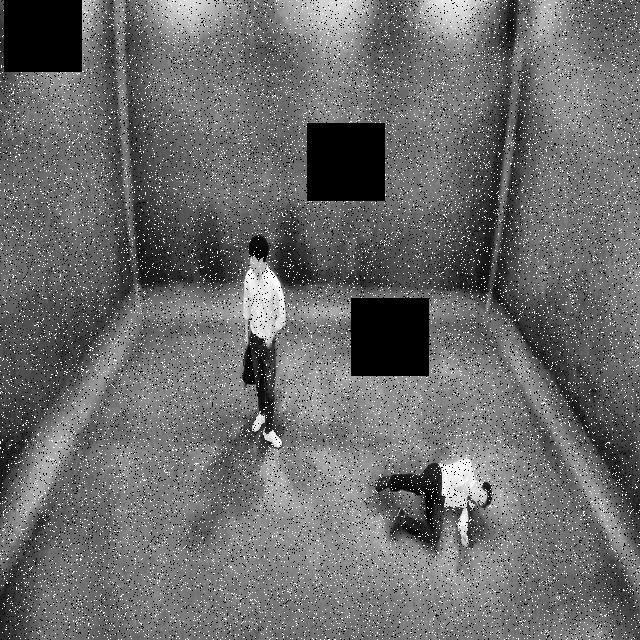assult: (228, 224, 500, 558), (366, 438, 497, 551)
